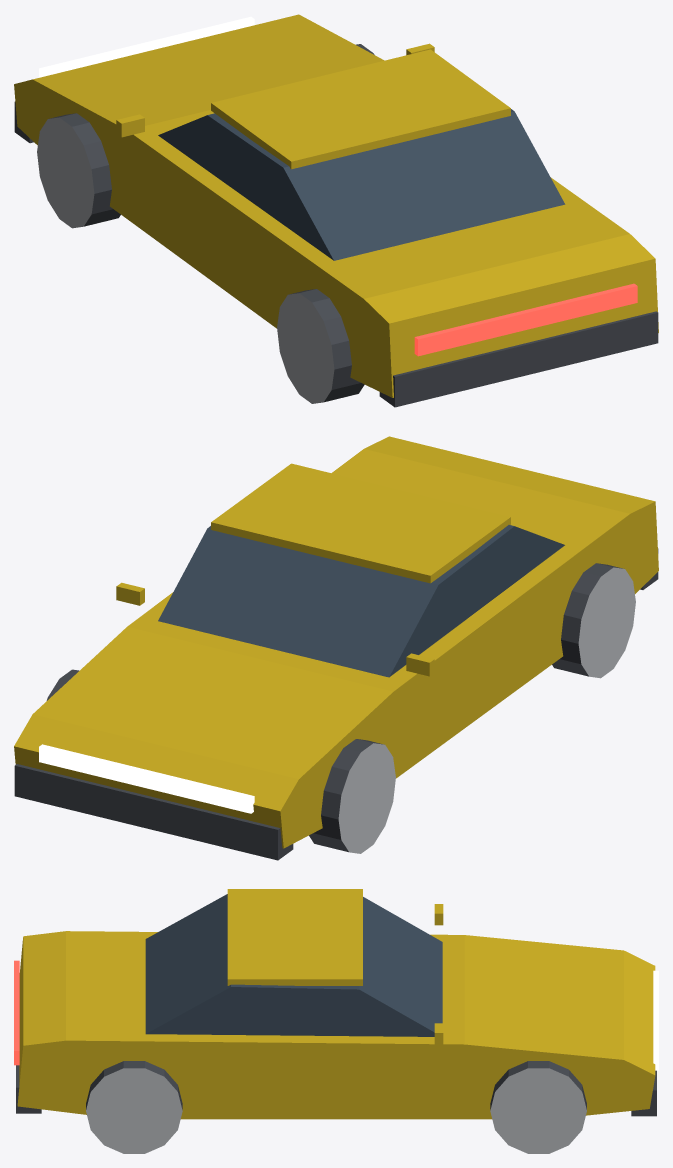
File: car_yellow.glb
The picture shows the model from 3 angles, top to bottom: view 1: azimuth 30°, elevation 25°; view 2: azimuth 150°, elevation 25°; view 3: azimuth 270°, elevation 25°; orthographic projection. The views are drawn at different scales.
Parts seen in each view (by area): view 1: body, cabin, roof, wheel (×2), bumperR, taillights, headlights; view 2: body, cabin, roof, wheel (×2), bumperF, headlights; view 3: body, cabin, wheel (×2), roof, taillights, headlights.
Part boxes in pixels (x1=…): body: x1=14, y1=14, x2=658, y2=397; cabin: x1=158, y1=109, x2=565, y2=260; roof: x1=211, y1=49, x2=510, y2=169; wheel (×2): x1=37, y1=113, x2=364, y2=403; bumperR: x1=379, y1=311, x2=658, y2=407; taillights: x1=414, y1=283, x2=637, y2=356; headlights: x1=39, y1=16, x2=254, y2=77; body: x1=14, y1=436, x2=658, y2=848; cabin: x1=158, y1=525, x2=564, y2=677; roof: x1=211, y1=463, x2=510, y2=583; wheel (×2): x1=309, y1=563, x2=635, y2=853; bumperF: x1=14, y1=764, x2=293, y2=860; headlights: x1=39, y1=744, x2=254, y2=813; body: x1=17, y1=931, x2=655, y2=1119; cabin: x1=145, y1=894, x2=442, y2=1036; wheel (×2): x1=86, y1=1061, x2=586, y2=1153; roof: x1=227, y1=889, x2=362, y2=985; taillights: x1=14, y1=960, x2=19, y2=1065; headlights: x1=653, y1=970, x2=658, y2=1070.
Bounding box in the file's own units: 2.14 × 1.22 × 4.53.
